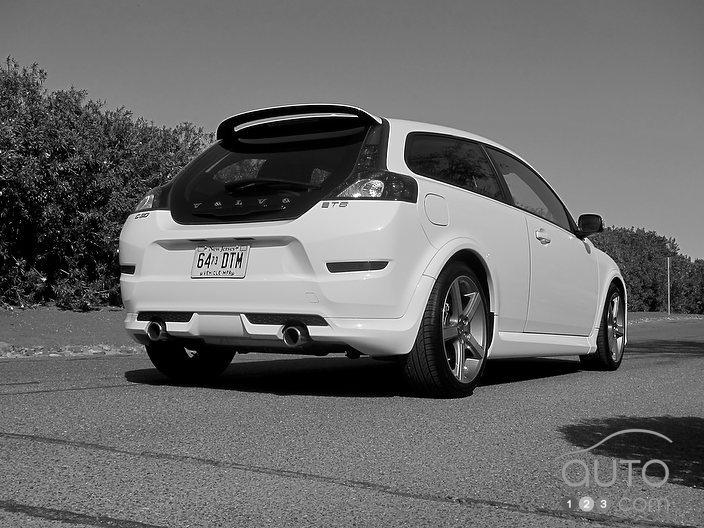car: (120, 105, 631, 398)
